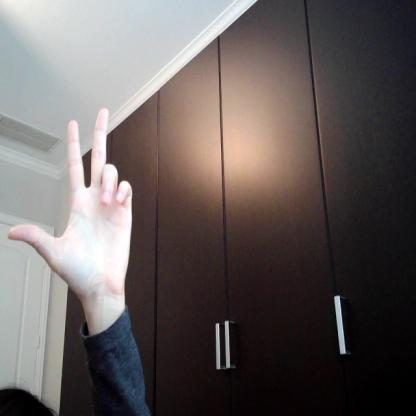three: (4, 106, 136, 305)
